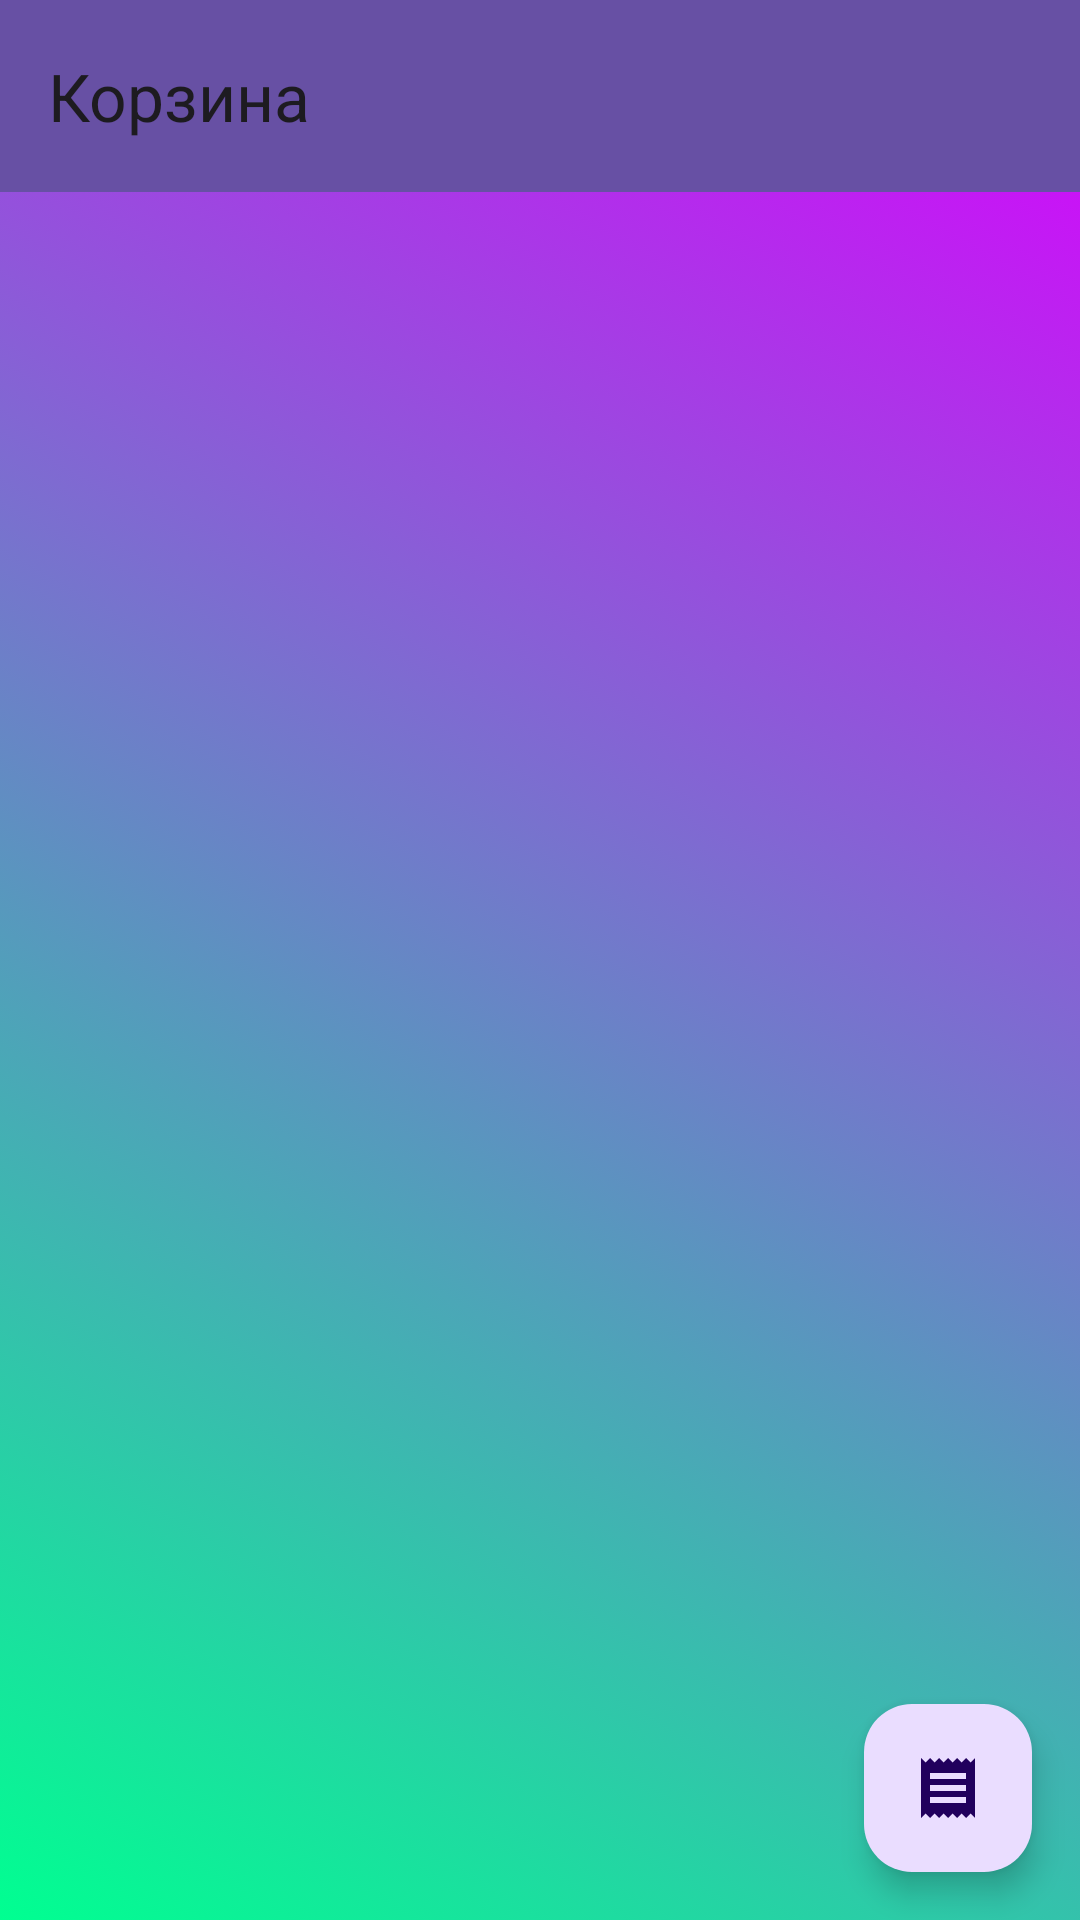

Icons on this 1080px×1920px Android screen, each with the point to tap as [x,y]:
receipt: [948,1788]
